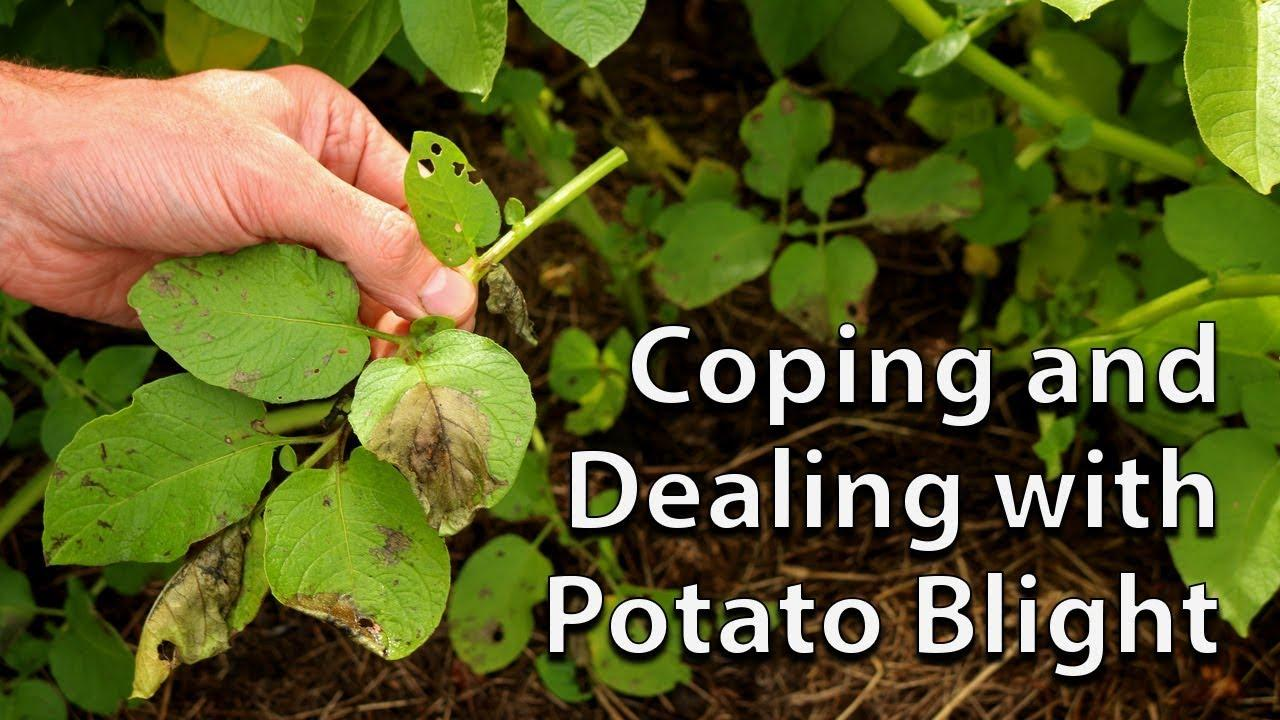Potato leaf: (130, 519, 261, 710)
Potato leaf late blight: (40, 357, 288, 568), (124, 229, 380, 403), (252, 449, 455, 657), (342, 337, 547, 533)
